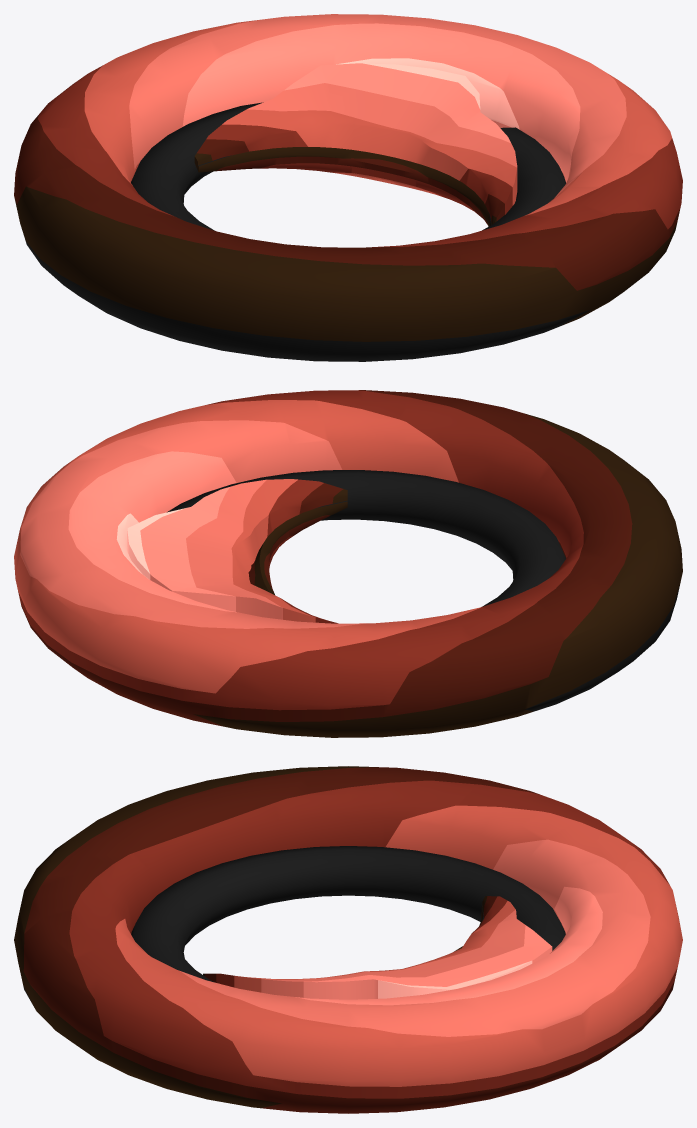
File: pulse_ring_57.glb
3 views of the same model, one above another, from view 1: azimuth 30°, elevation 25°; view 2: azimuth 150°, elevation 25°; view 3: azimuth 270°, elevation 25° (orthographic).
Visible parts, largest first — view 1: pulse_ring_57_band, pulse_ring_57_crescent, pulse_ring_57_lip; view 2: pulse_ring_57_band, pulse_ring_57_crescent, pulse_ring_57_lip; view 3: pulse_ring_57_band, pulse_ring_57_lip, pulse_ring_57_crescent.
Part boxes in pixels (x1,y1,x2,y2): pulse_ring_57_band: (14,14,682,361); pulse_ring_57_crescent: (194,63,517,226); pulse_ring_57_lip: (131,102,565,230); pulse_ring_57_band: (14,390,682,737); pulse_ring_57_crescent: (127,479,347,623); pulse_ring_57_lip: (167,470,565,606); pulse_ring_57_band: (14,766,682,1113); pulse_ring_57_lip: (131,846,565,982); pulse_ring_57_crescent: (203,896,552,999).
Size of the model in its own units: 12.1 by 1.9 by 12.1.
